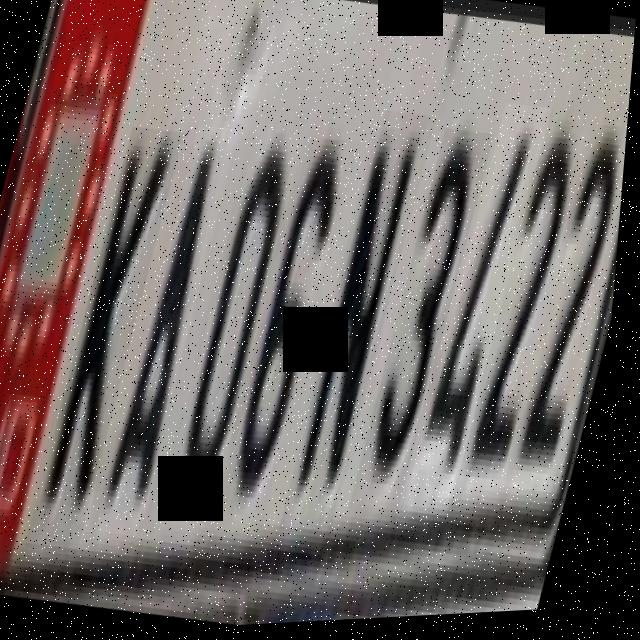0: (159, 130, 308, 557)
3: (355, 130, 497, 528)
4: (410, 106, 554, 523)
6: (215, 137, 363, 558)
A: (99, 125, 242, 557)
K: (34, 125, 188, 558)
N: (287, 112, 439, 543)
